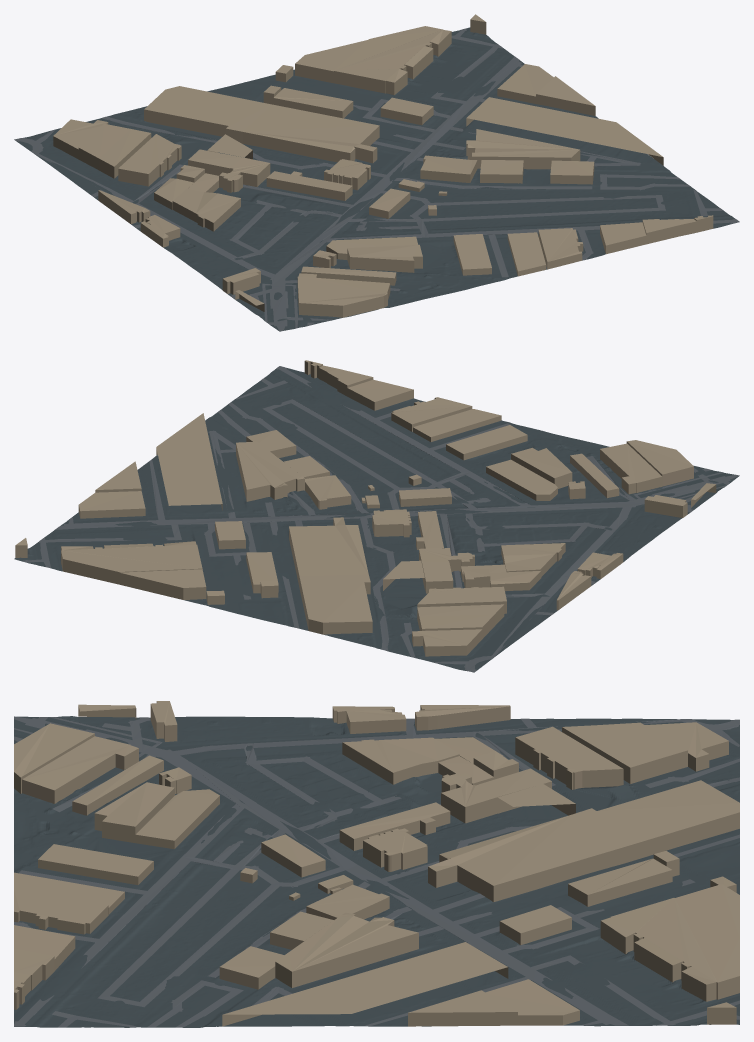
The model's file is epsg26910-1439-10879.lod0.glb.
3 views of the same model, one above another, from view 1: azimuth 30°, elevation 25°; view 2: azimuth 150°, elevation 25°; view 3: azimuth 270°, elevation 25° (orthographic). The views are drawn at different scales.
Visible parts, largest first — view 1: epsg26910-1439-10879-lod0; view 2: epsg26910-1439-10879-lod0; view 3: epsg26910-1439-10879-lod0.
Boxes of the visible parts, x1,y1,x2,y2 form: epsg26910-1439-10879-lod0: (14,14,739,331); epsg26910-1439-10879-lod0: (14,360,739,672); epsg26910-1439-10879-lod0: (14,701,739,1027).
Size of the model in its own units: 384 by 12.79 by 384.
